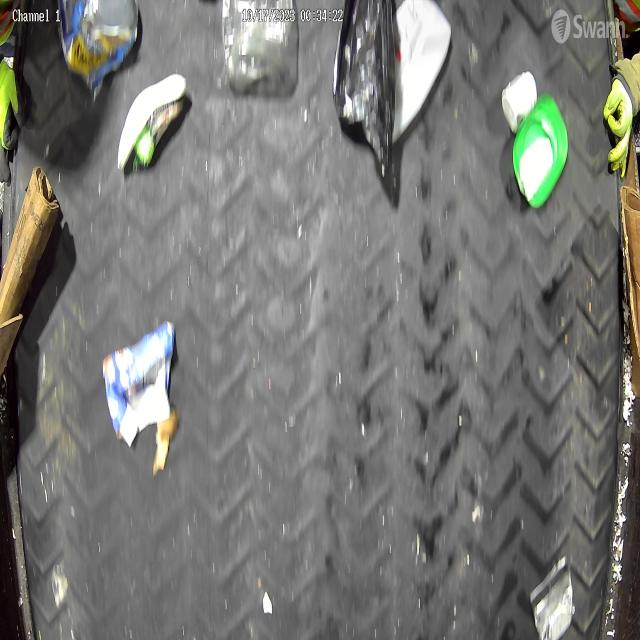can: (530, 557, 573, 640)
milk_jug: (392, 0, 453, 144)
